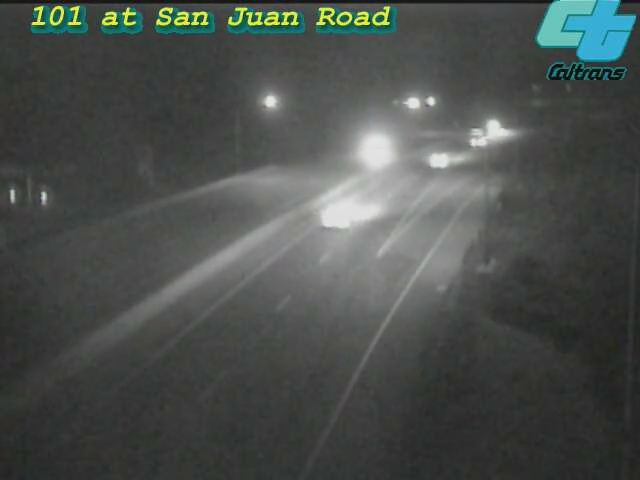vehicle: (398, 121, 478, 201), (307, 171, 387, 251), (350, 124, 400, 174), (469, 101, 519, 151), (474, 107, 524, 157), (453, 114, 503, 164)
